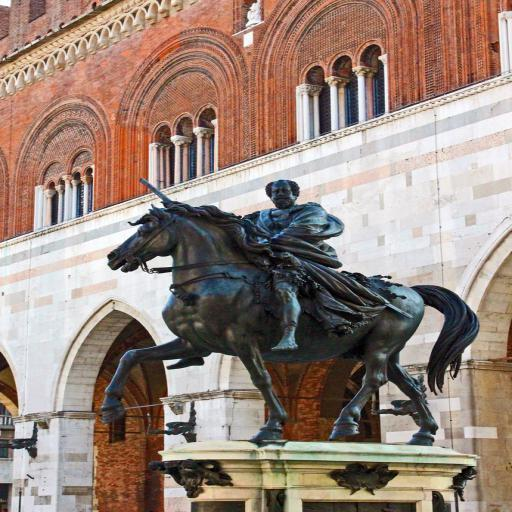horse: (100, 200, 482, 446)
